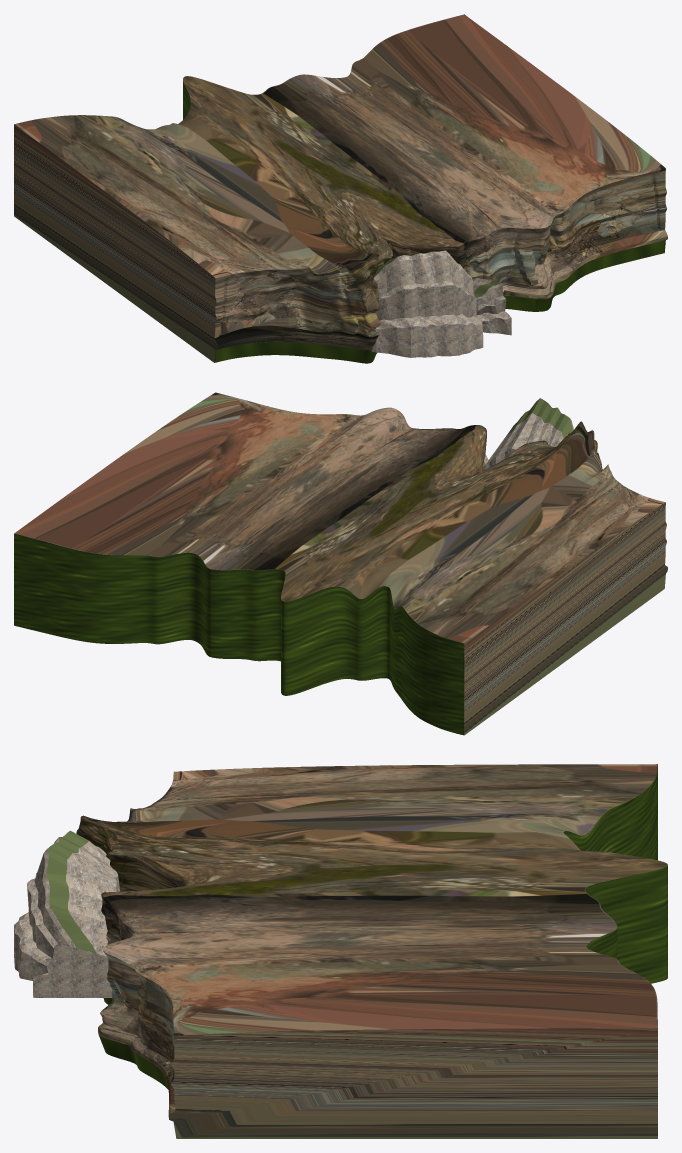
Rendered from headland.glb.
3 views of the same model, one above another, from view 1: azimuth 30°, elevation 25°; view 2: azimuth 150°, elevation 25°; view 3: azimuth 270°, elevation 25° (orthographic). The views are drawn at different scales.
Parts seen in each view (by area): view 1: Cliff C8 B | joinable coastal segment, Rebuilt headland | promontory, rock shoulders, gully; view 2: Cliff C8 B | joinable coastal segment, Rebuilt headland | promontory, rock shoulders, gully; view 3: Cliff C8 B | joinable coastal segment, Rebuilt headland | promontory, rock shoulders, gully.
Boxes of the visible parts, x1,y1,x2,y2 form: Cliff C8 B | joinable coastal segment: (14,14,667,363); Rebuilt headland | promontory, rock shoulders, gully: (371,250,511,357); Cliff C8 B | joinable coastal segment: (14,392,667,735); Rebuilt headland | promontory, rock shoulders, gully: (483,398,573,469); Cliff C8 B | joinable coastal segment: (76,764,667,1138); Rebuilt headland | promontory, rock shoulders, gully: (14,830,119,997).
Bounding box in the file's own units: 40 × 9.21 × 41.86.
Materials: 4 (3 with a texture image).
